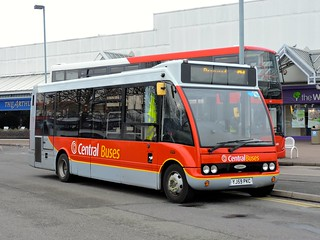bus: (29, 58, 279, 202)
